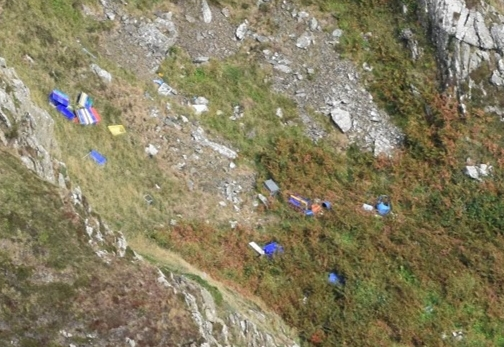scattered_barrel: (249, 170, 398, 297), (39, 80, 141, 173)
